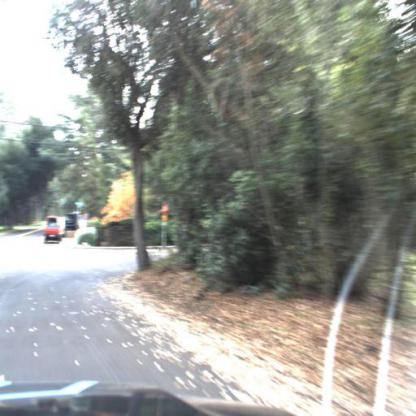car: (44, 215, 64, 246)
